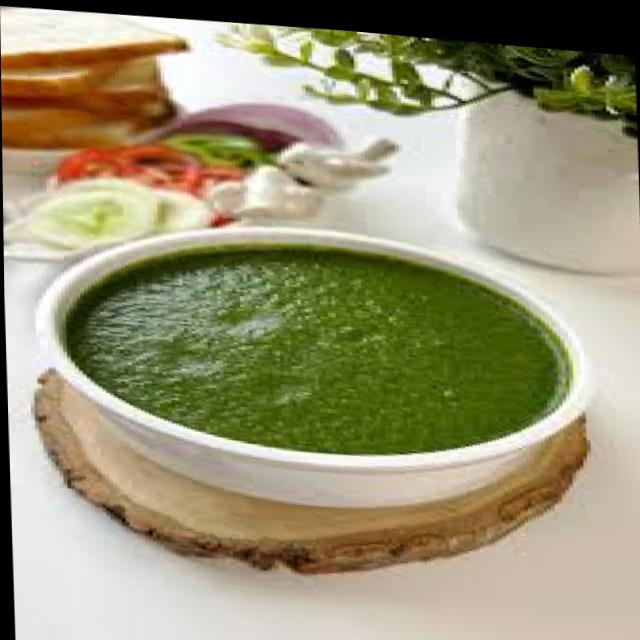GREEN CHUTNEY: (55, 247, 559, 453)
